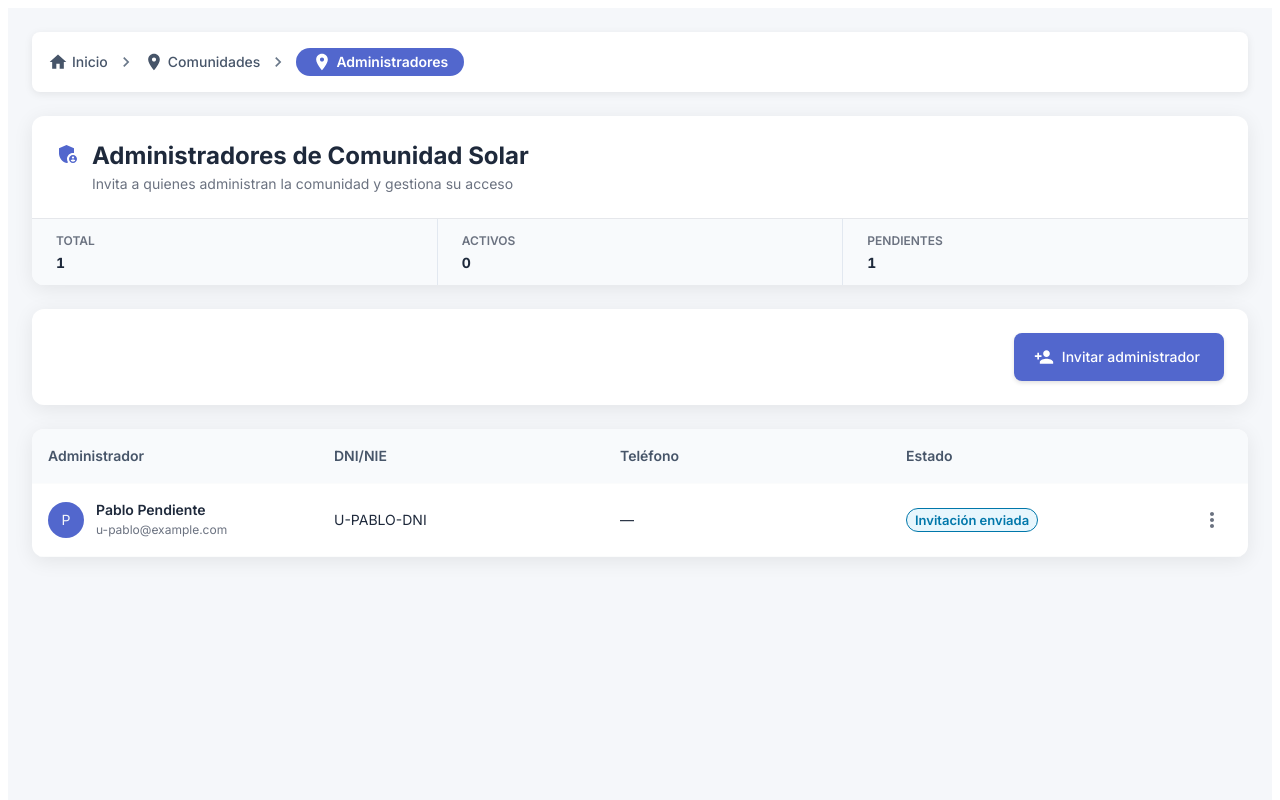
Test: the row actions › UI-ADM-005 revokes the link, and the row shows it lapsed
Expected: the text "Pablo Pendiente" is shown, [96,501,206,518]
Click the button named "Más acciones para Pablo Pendiente".
click(1212, 520)  # box [1195,503,1229,537]
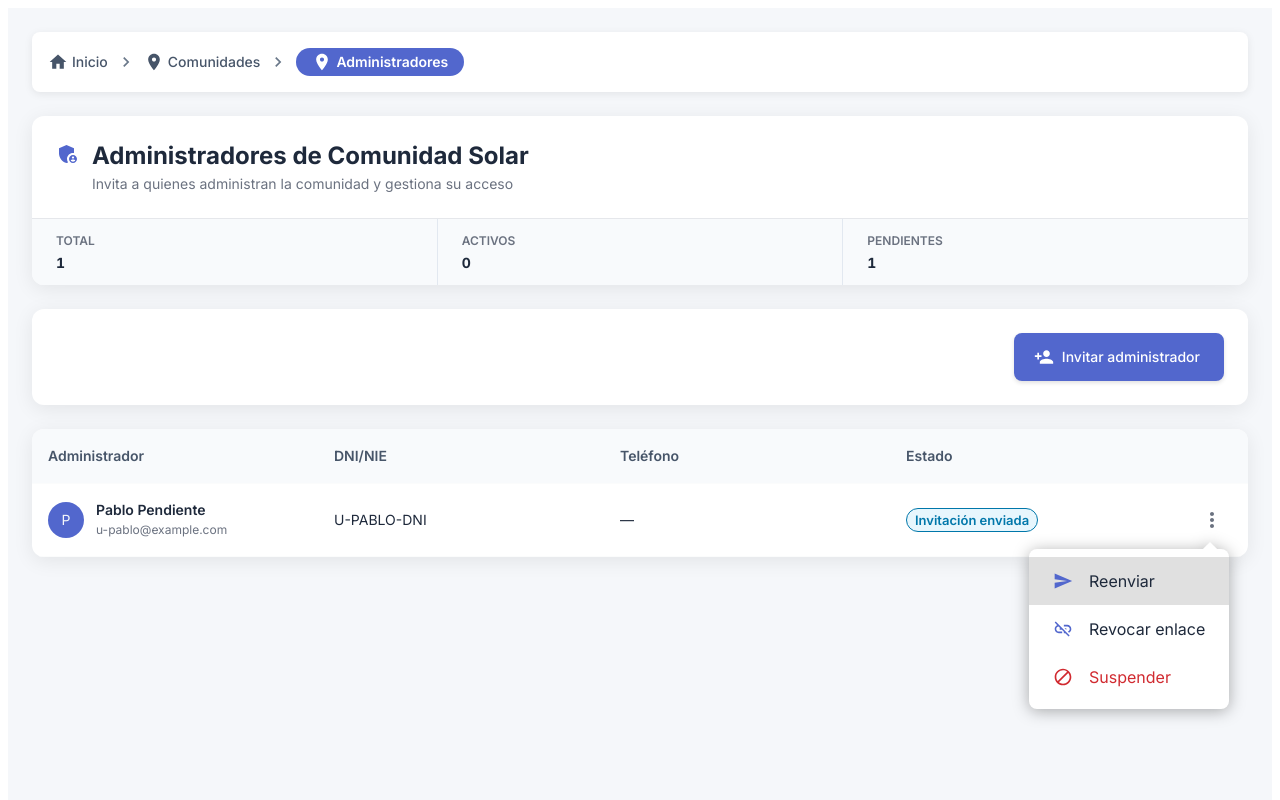
Click the menu item "Revocar enlace".
click(1129, 629)  # box [1053,619,1205,639]
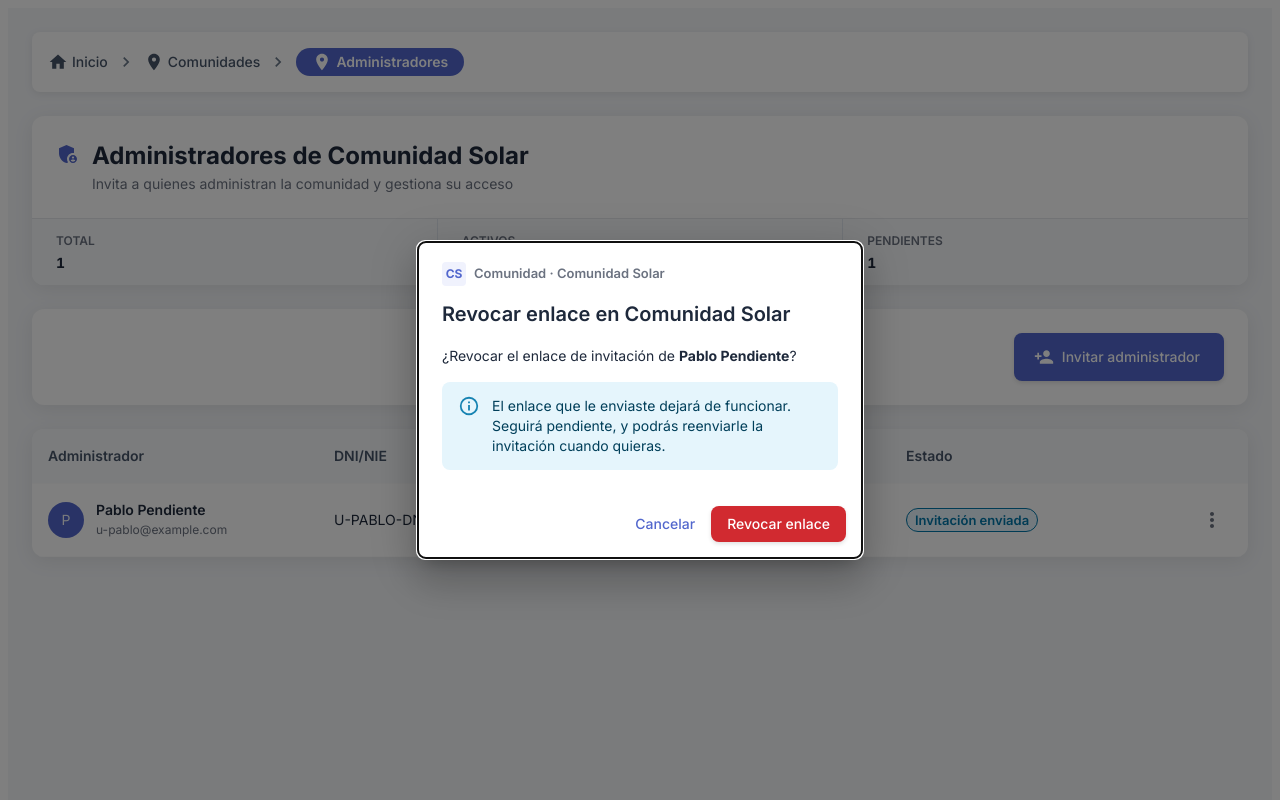
Click the button "Revocar enlace".
click(779, 524)  # box [711,506,846,542]
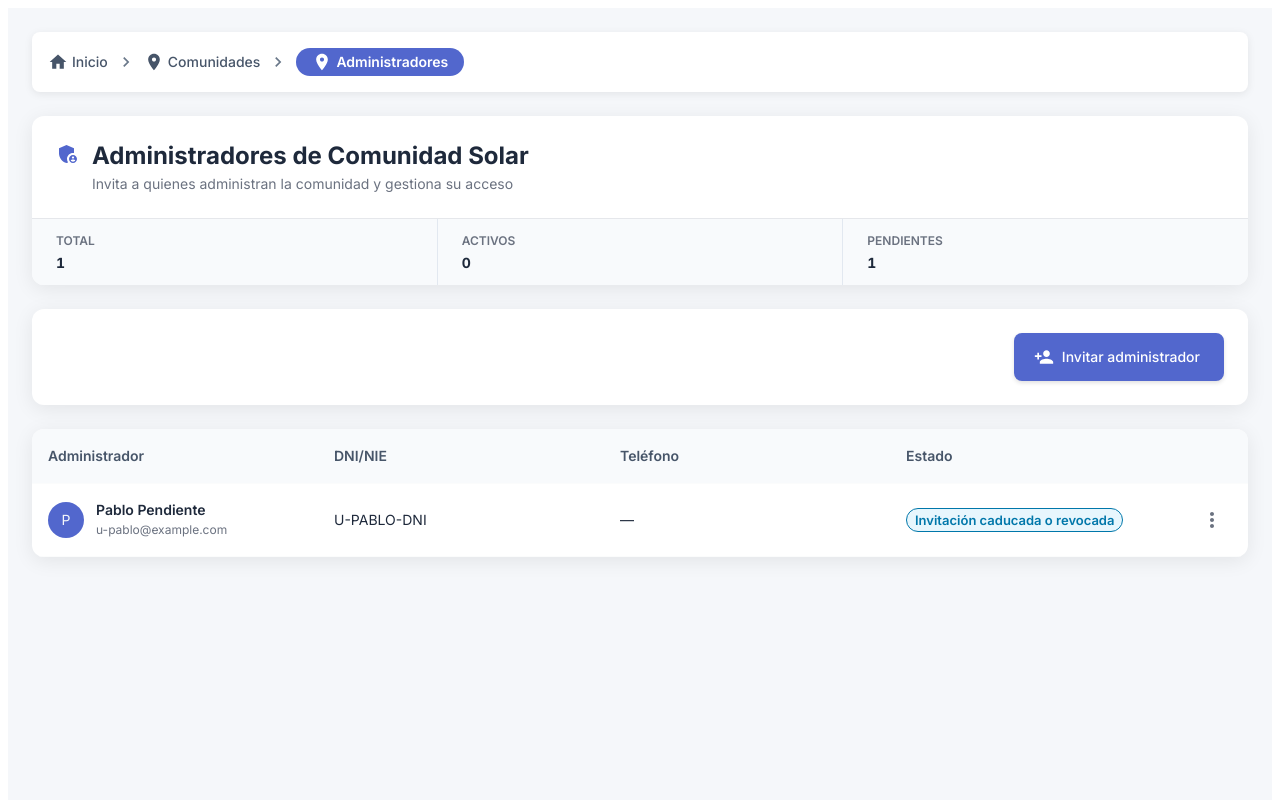
Expected: the text "Invitación caducada o revocada" is shown, [907,511,1122,530]
